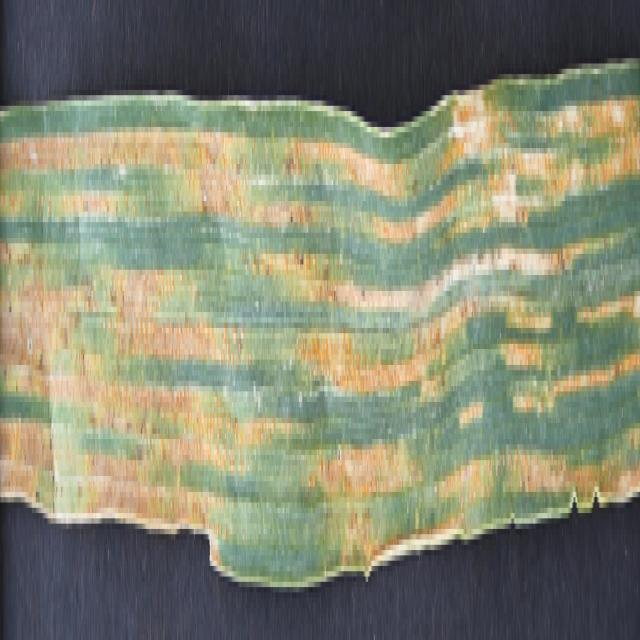leaf rust: (0, 84, 640, 587)
